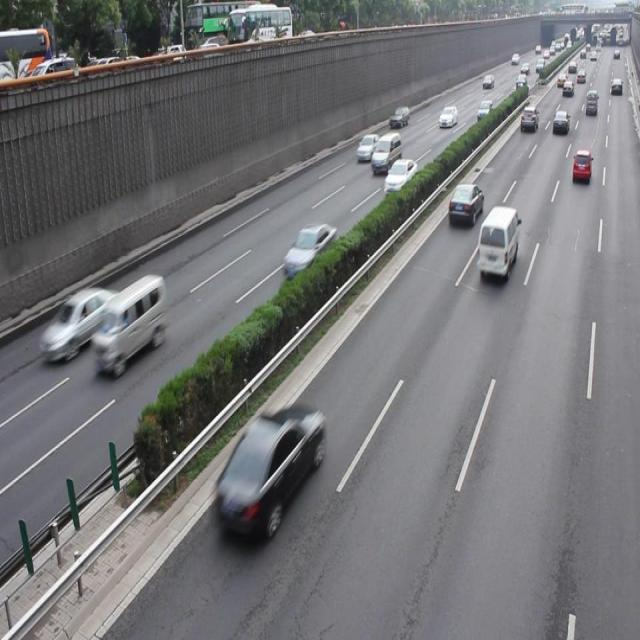car: (212, 403, 323, 538), (40, 287, 120, 364), (282, 221, 336, 279), (447, 182, 482, 228), (382, 158, 418, 195), (571, 148, 590, 184)
truck: (91, 274, 168, 376), (476, 204, 517, 281), (370, 132, 401, 174)
